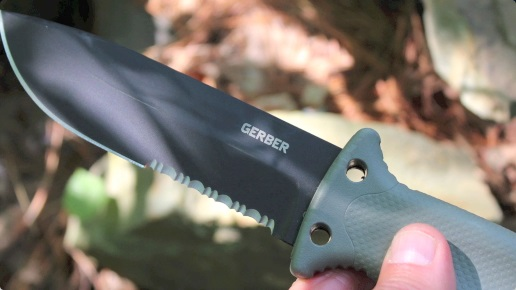knife: (1, 1, 398, 290)
